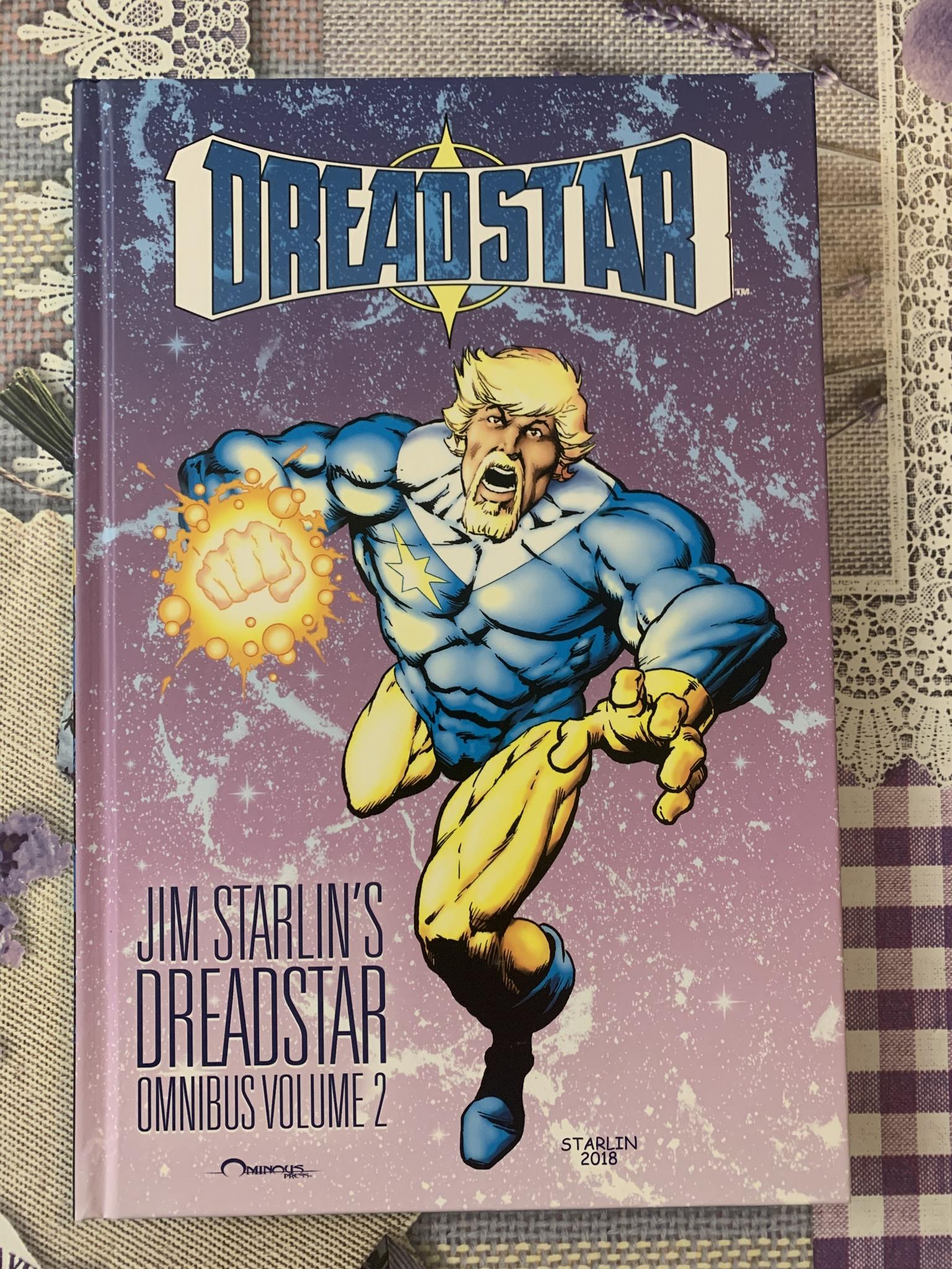comic: (64, 74, 848, 1217)
